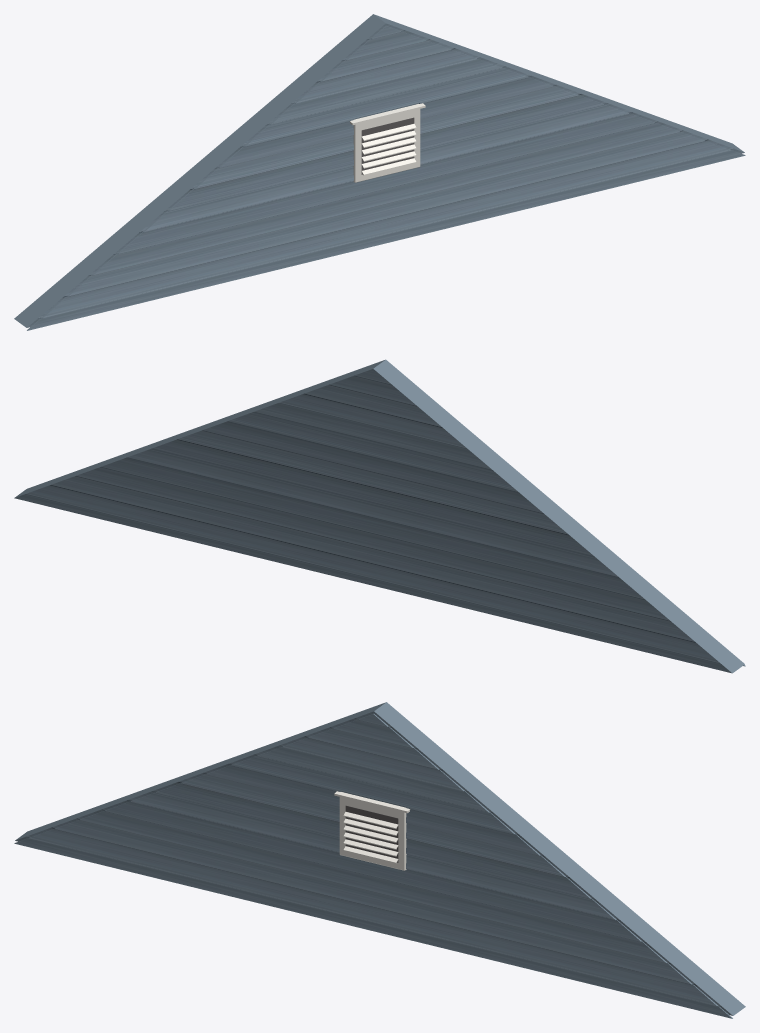
The model's file is store_gable_back.glb.
3 views of the same model, one above another, from view 1: azimuth 30°, elevation 25°; view 2: azimuth 150°, elevation 25°; view 3: azimuth 330°, elevation 25° (orthographic).
Visible parts, largest first — view 1: store_gable_back_siding, store_gable_back_trim, store_gable_back_dark; view 2: store_gable_back_siding; view 3: store_gable_back_siding, store_gable_back_trim, store_gable_back_dark.
Part boxes in pixels (left/top/right/bottom): store_gable_back_siding: left=14, top=14, right=745, bottom=330; store_gable_back_trim: left=349, top=103, right=425, bottom=182; store_gable_back_dark: left=361, top=117, right=414, bottom=174; store_gable_back_siding: left=14, top=359, right=745, bottom=673; store_gable_back_siding: left=14, top=702, right=745, bottom=1018; store_gable_back_trim: left=334, top=791, right=410, bottom=870; store_gable_back_dark: left=345, top=805, right=398, bottom=862.
Size of the model in its own units: 9.83 by 2.87 by 0.4.
3 materials, 1 textured.
